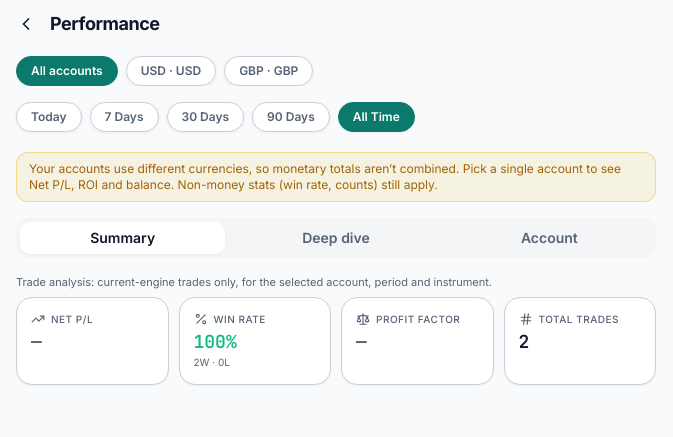
Test: JournalStats — Phase 7 breakdowns & safety › guards monetary totals and explains why under mixed currencies
Check: the text "different currencies" is shown, box [29,161,621,192]
Click the button "Account" at [549, 238], box [447,222,652,254]
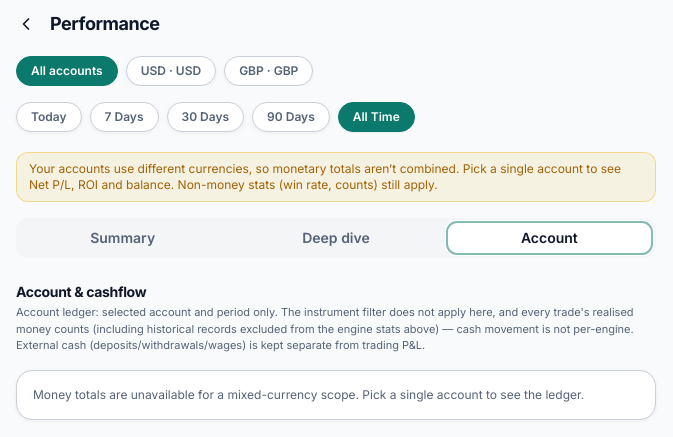
Check: the text "Money totals are unavailable" is shown, box [33,386,584,402]
